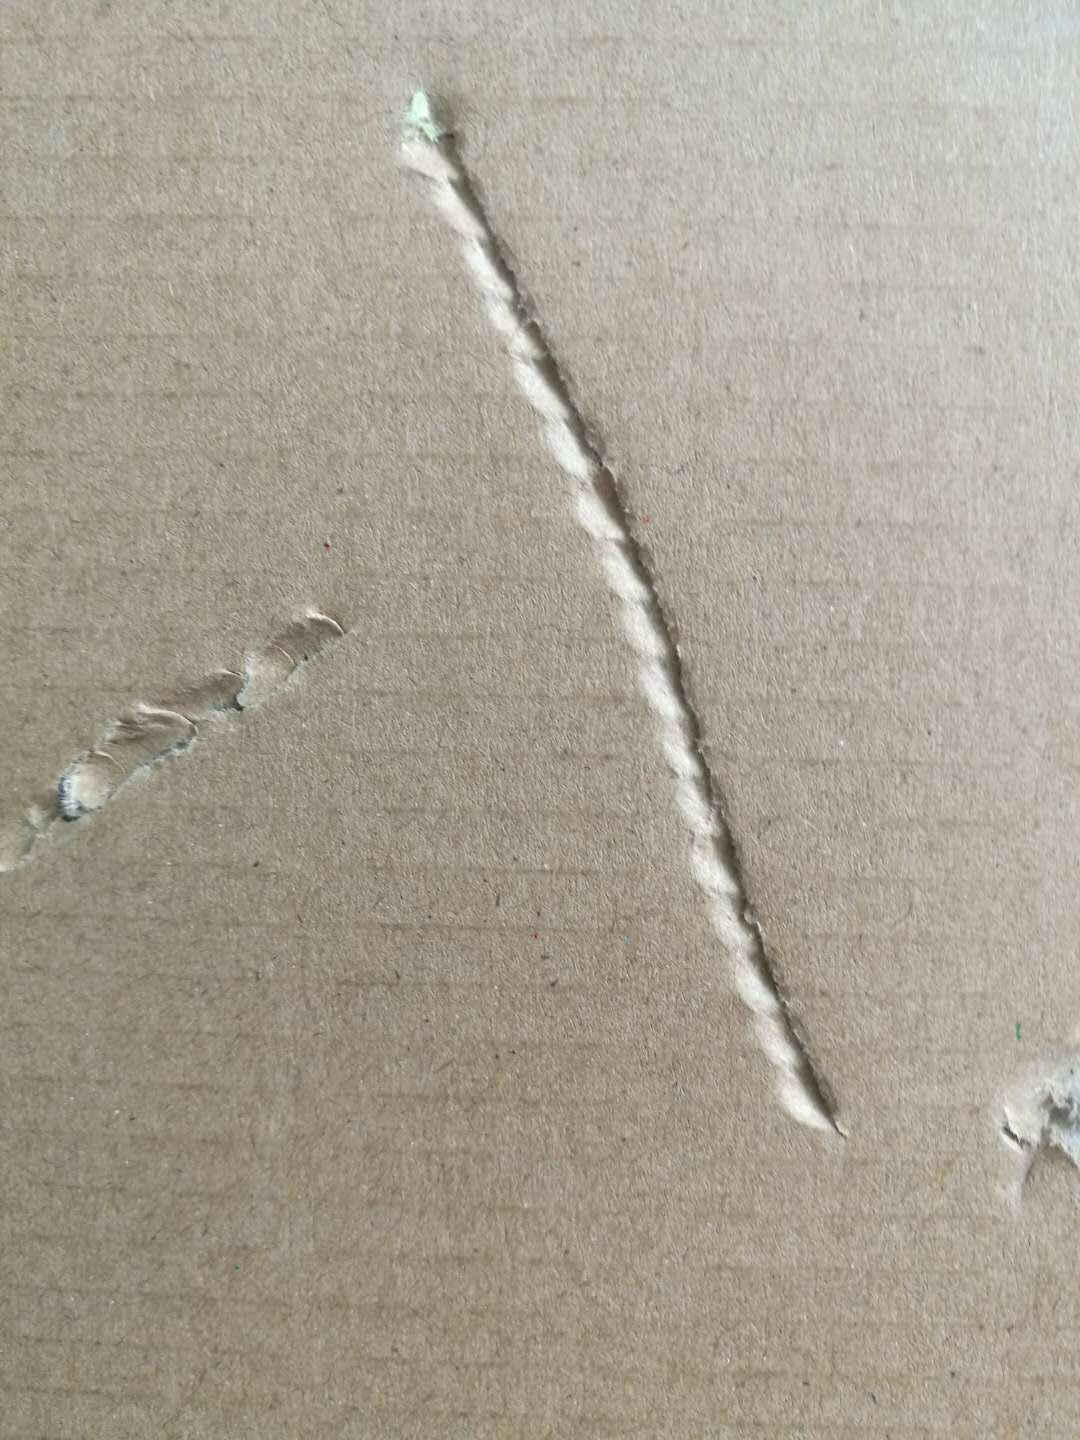defect: (351, 53, 874, 1174), (5, 573, 388, 901), (971, 1010, 1080, 1210)
